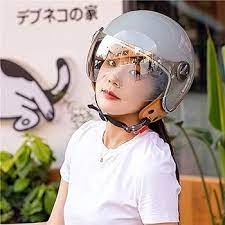helmets: (65, 7, 192, 132)
